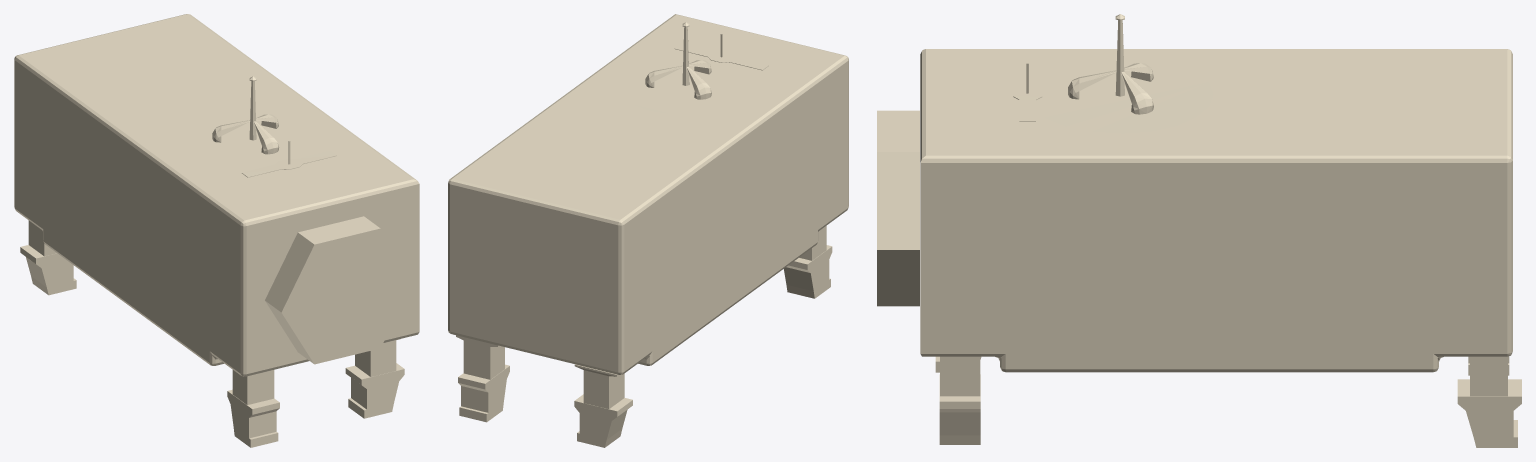
File: ecostress.glb
3 renders of one model, left to right at view 1: azimuth 30°, elevation 25°; view 2: azimuth 150°, elevation 25°; view 3: azimuth 270°, elevation 25°, orthographic. The views are drawn at different scales.
Parts seen in each view (by area): view 1: JEM_EF_ECOSTRESS; view 2: JEM_EF_ECOSTRESS; view 3: JEM_EF_ECOSTRESS.
Boxes of the visible parts, box(x1,y1,x2,y2) form: JEM_EF_ECOSTRESS: box(14, 14, 419, 447); JEM_EF_ECOSTRESS: box(448, 14, 848, 447); JEM_EF_ECOSTRESS: box(877, 14, 1521, 447).
Size of the model in its own units: 0.0823 by 0.1338 by 0.2016.
